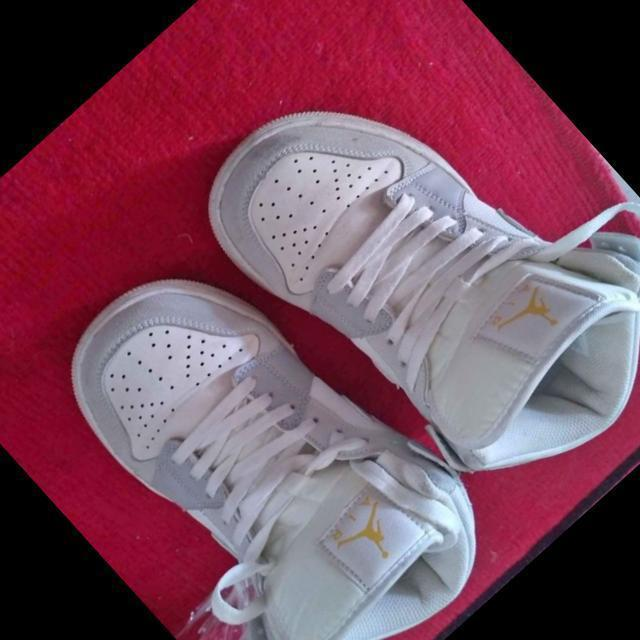nike fake jordan 1: (175, 0, 640, 543), (6, 206, 519, 640)
